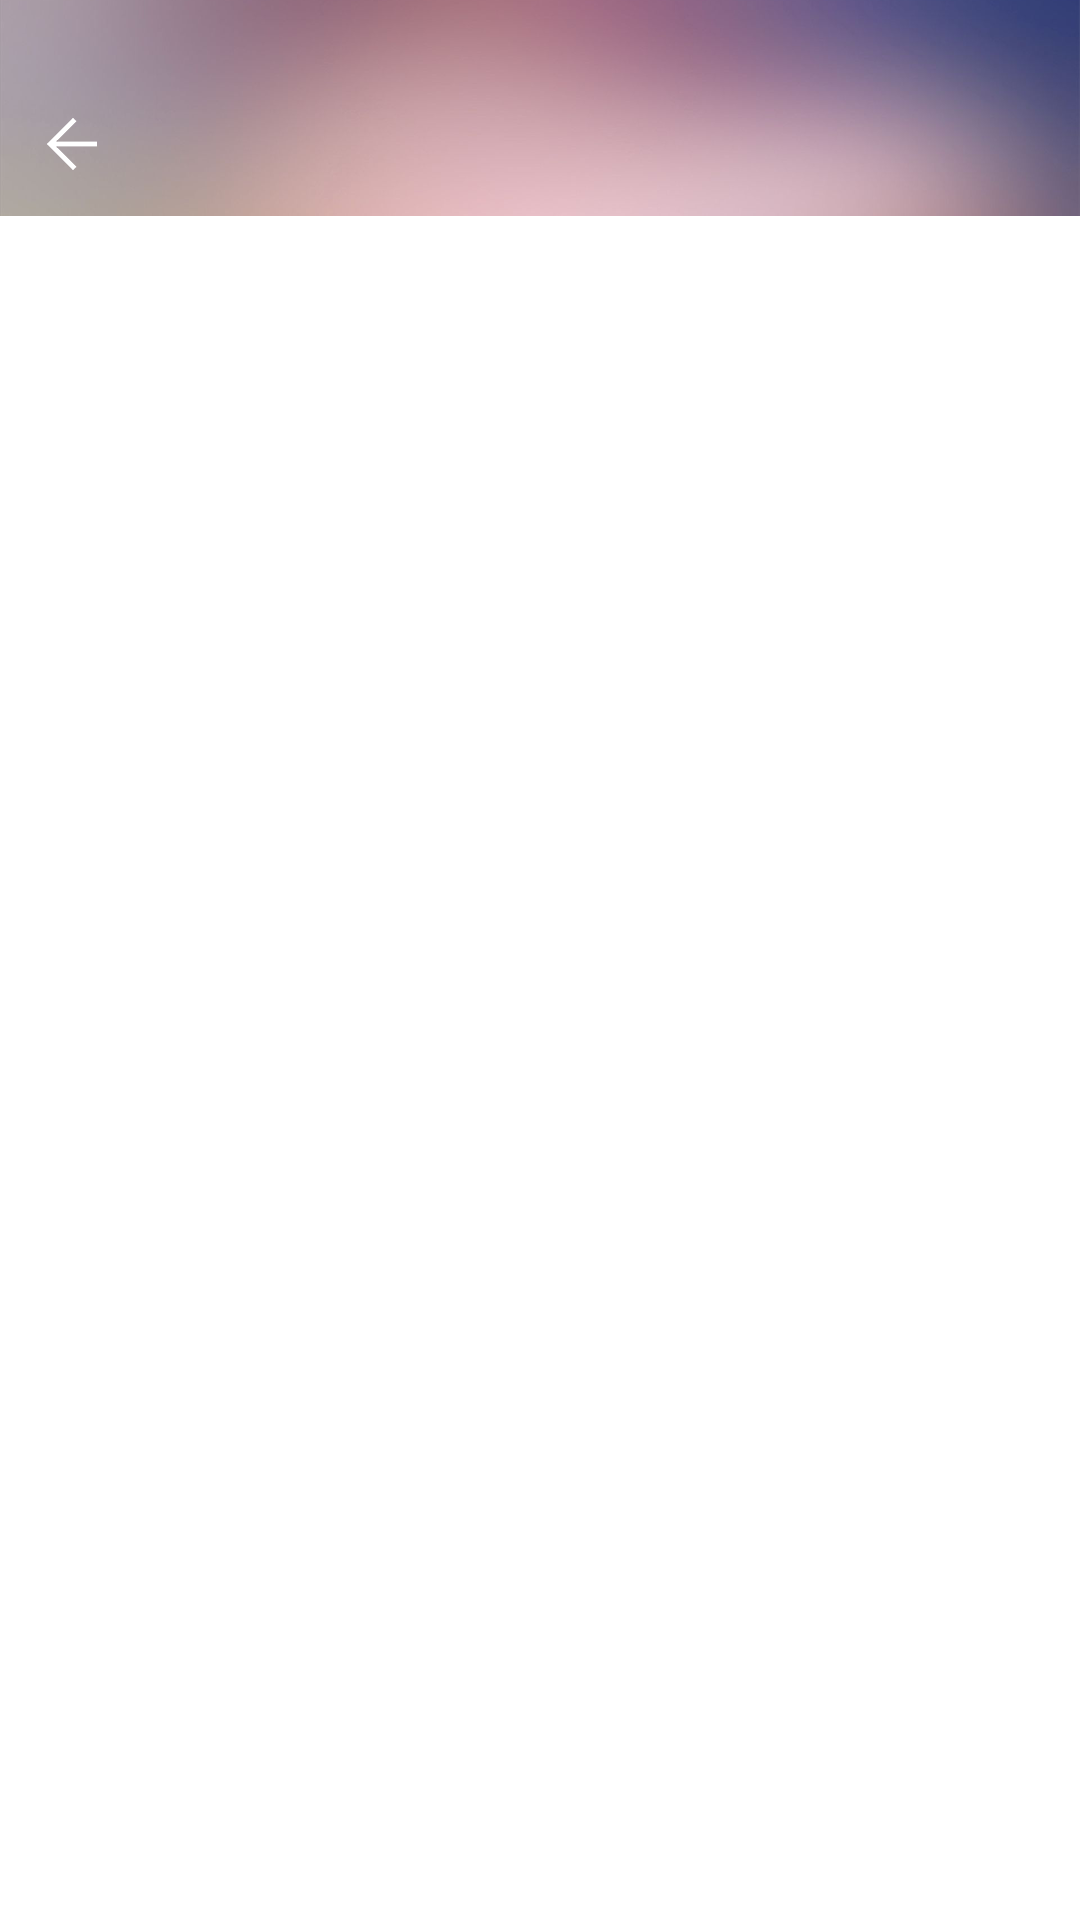

Icon click points for this 1080px x 1920px phone screenshot, format (x=x, y=y):
back: (x=72, y=144)
